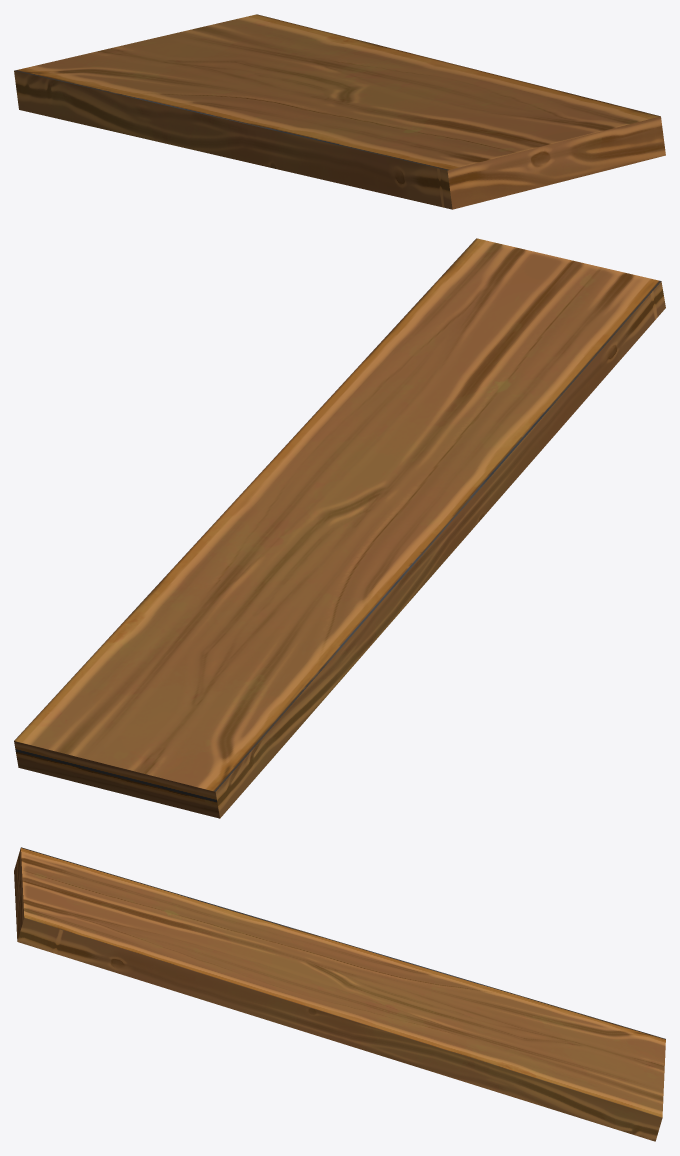
The picture shows the model from 3 angles, top to bottom: view 1: azimuth 30°, elevation 25°; view 2: azimuth 150°, elevation 25°; view 3: azimuth 270°, elevation 25°; orthographic projection. The views are drawn at different scales.
Parts seen in each view (by area): view 1: Cube.552; view 2: Cube.552; view 3: Cube.552.
Part boxes in pixels (x1,y1,x2,y2): Cube.552: (14, 14, 665, 209); Cube.552: (14, 238, 665, 818); Cube.552: (14, 847, 665, 1141).
Size of the model in its own units: 69.61 by 69.22 by 204.
Materials: 1 (1 with a texture image).
